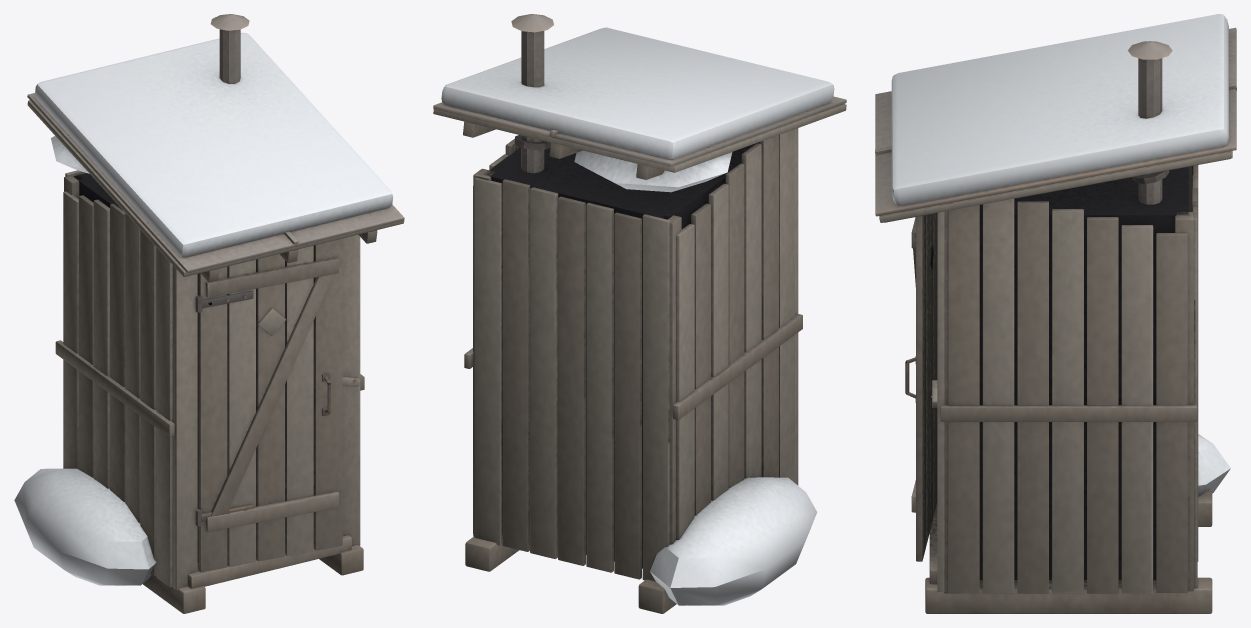
Rendered from outhouse.glb.
3 renders of one model, left to right at view 1: azimuth 30°, elevation 25°; view 2: azimuth 150°, elevation 25°; view 3: azimuth 270°, elevation 25°, orthographic. The views are drawn at different scales.
Parts seen in each view (by area): view 1: outhouse; view 2: outhouse; view 3: outhouse.
Part boxes in pixels (left/top/right/bottom): outhouse: left=14, top=14, right=404, bottom=613; outhouse: left=433, top=14, right=846, bottom=613; outhouse: left=875, top=14, right=1236, bottom=613.
Bounding box in the file's own units: 1.6 × 2.9 × 1.69.
Materials: 1 (1 with a texture image).
